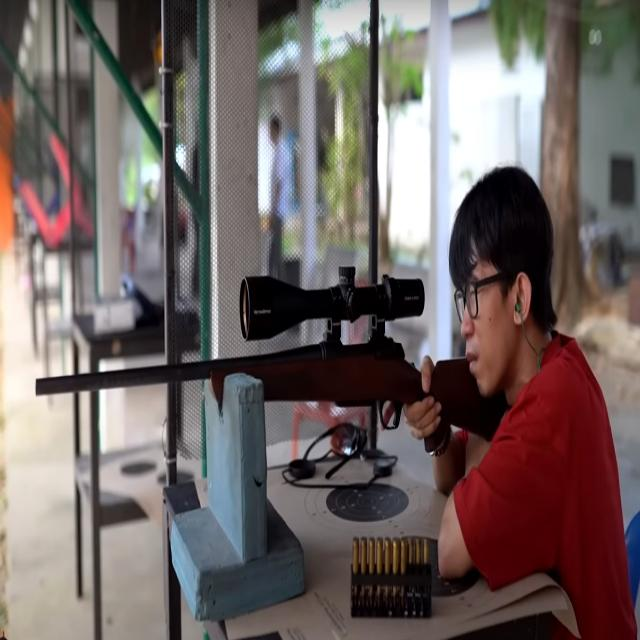rifle: (29, 255, 504, 469)
